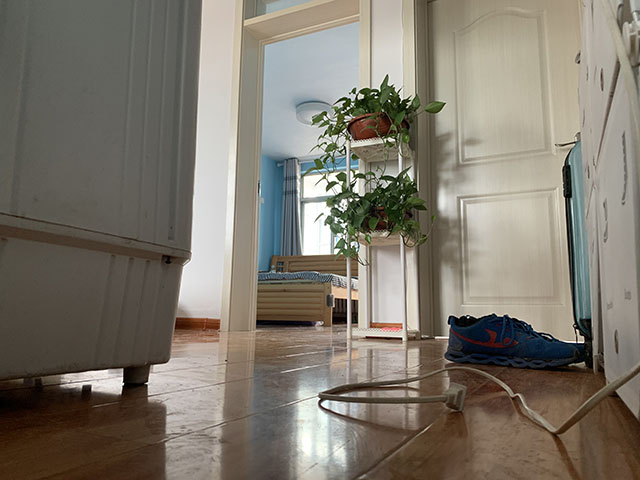bed: (255, 253, 359, 327)
cabinet: (574, 1, 639, 423)
wire: (317, 362, 640, 438)
